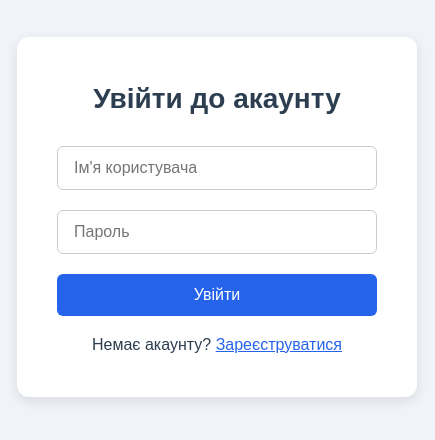
LoginPage › shows error if fields are empty in register mode
The width and height of the screenshot is (435, 440).
Click the button "Зареєструватися".
click(279, 345)  # box [216,336,342,354]
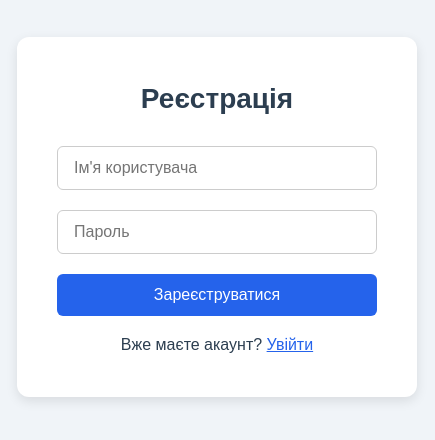
Click the button "Зареєструватися".
click(217, 295)  # box [57,274,377,316]
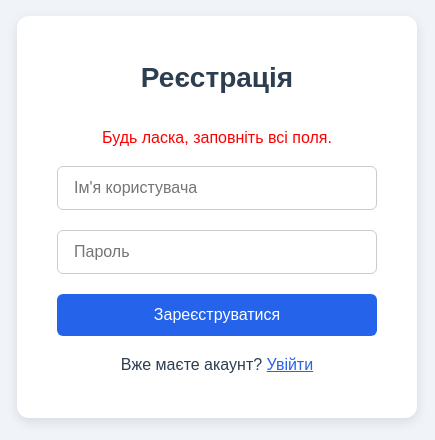
Expected: the text "Будь ласка, заповніть всі поля." is shown, [102,129,332,146]
